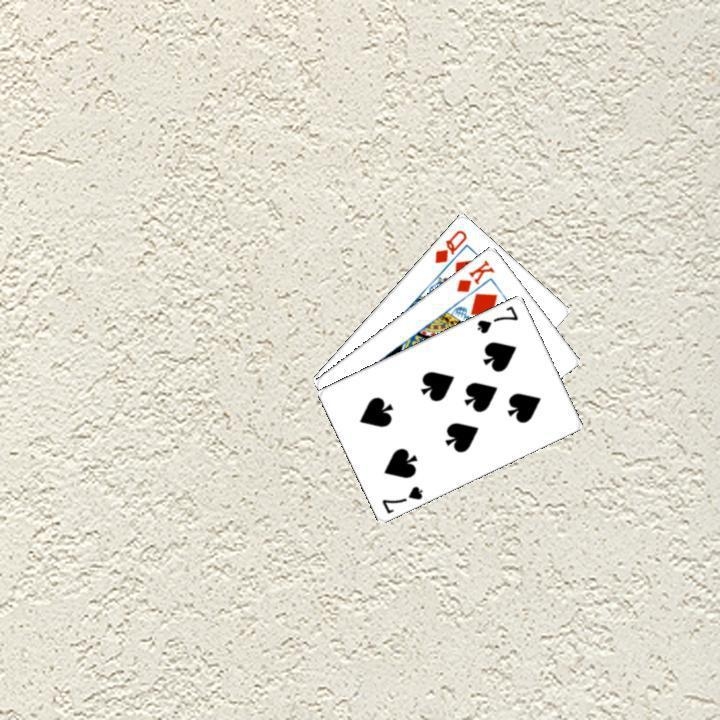7: (377, 481, 425, 515), (473, 301, 520, 335)
K: (452, 255, 497, 294)
Q: (430, 225, 469, 265)
